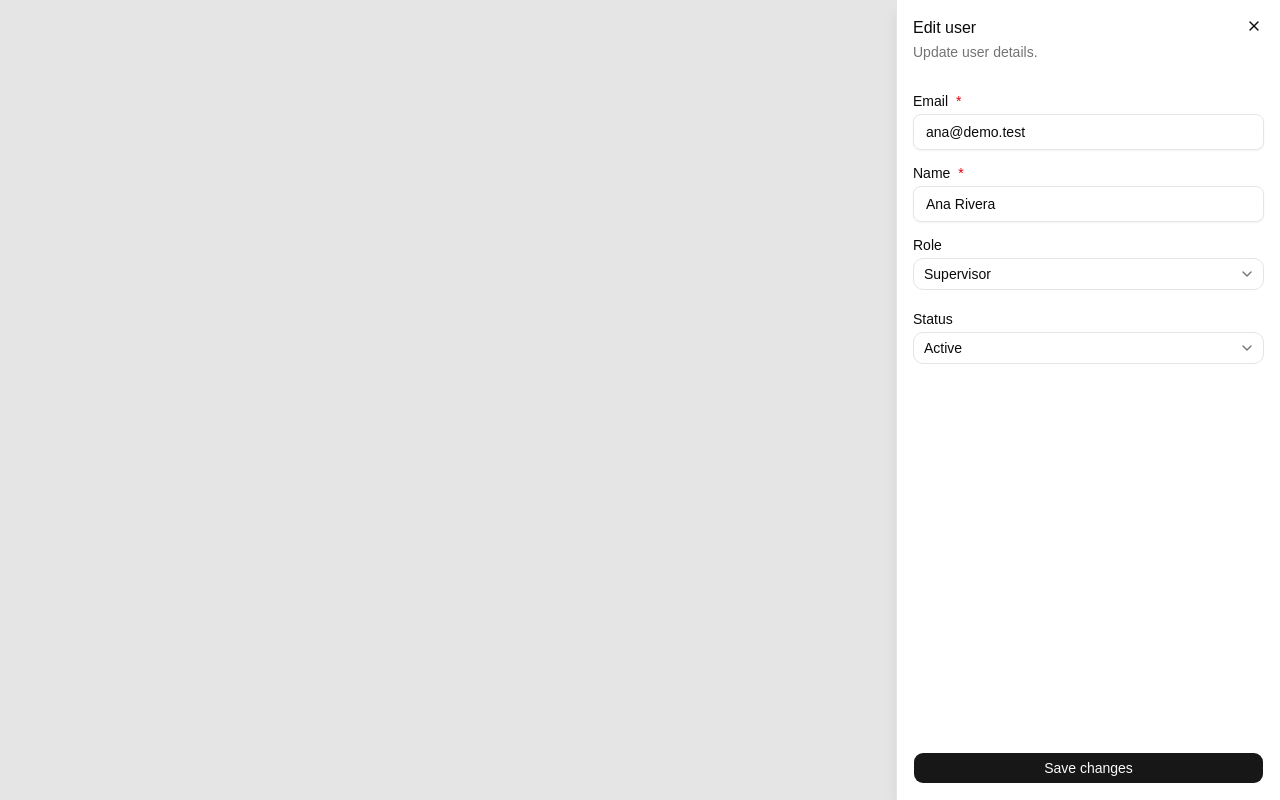
Test: UserForm leaving-Active hint › UserForm_ShouldDescribeTheStatusFieldWithTheHint_WhileTheHintIsShown
This screenshot has width=1280, height=800.
Click the dropdown with test id "user-form-status": (943, 348) left=913, top=332, right=1264, bottom=364
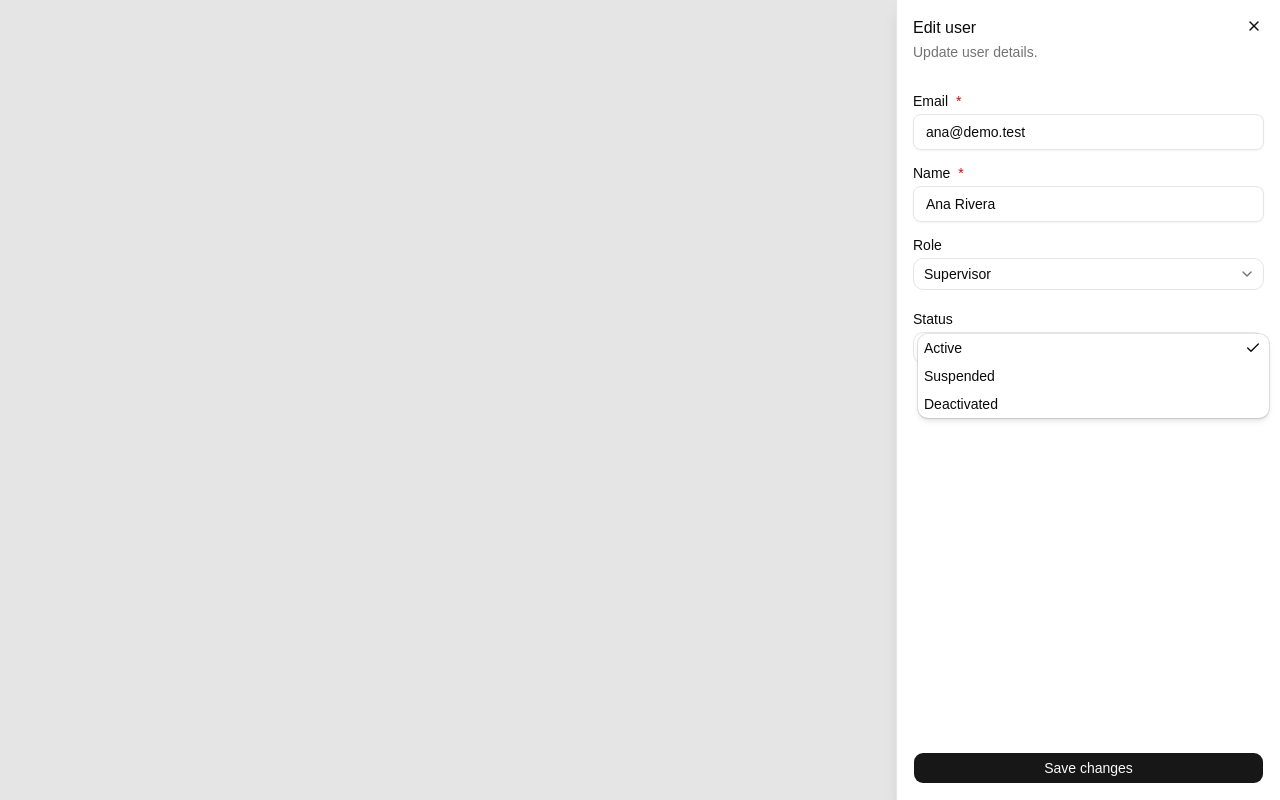
Click the option with test id "user-form-status-option-Suspended": (959, 376) left=924, top=368, right=995, bottom=384
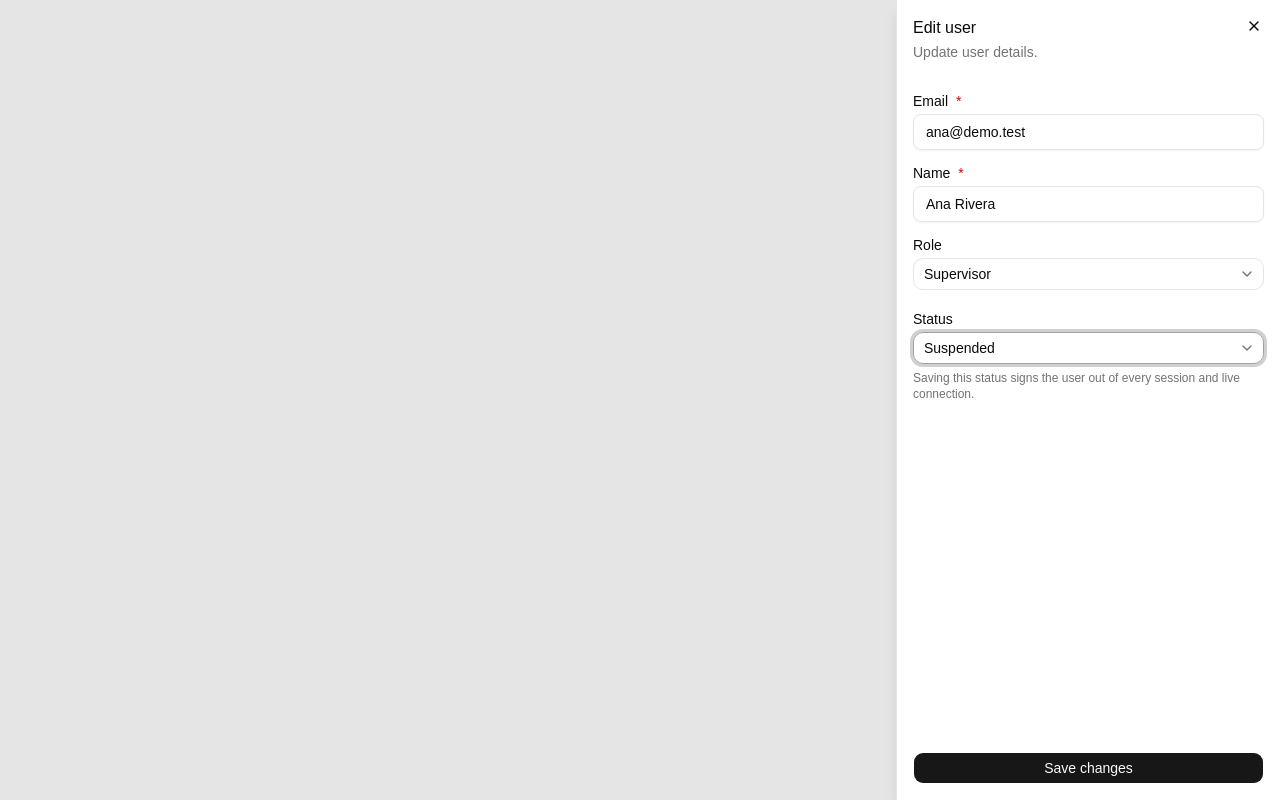
Now no options are shown
